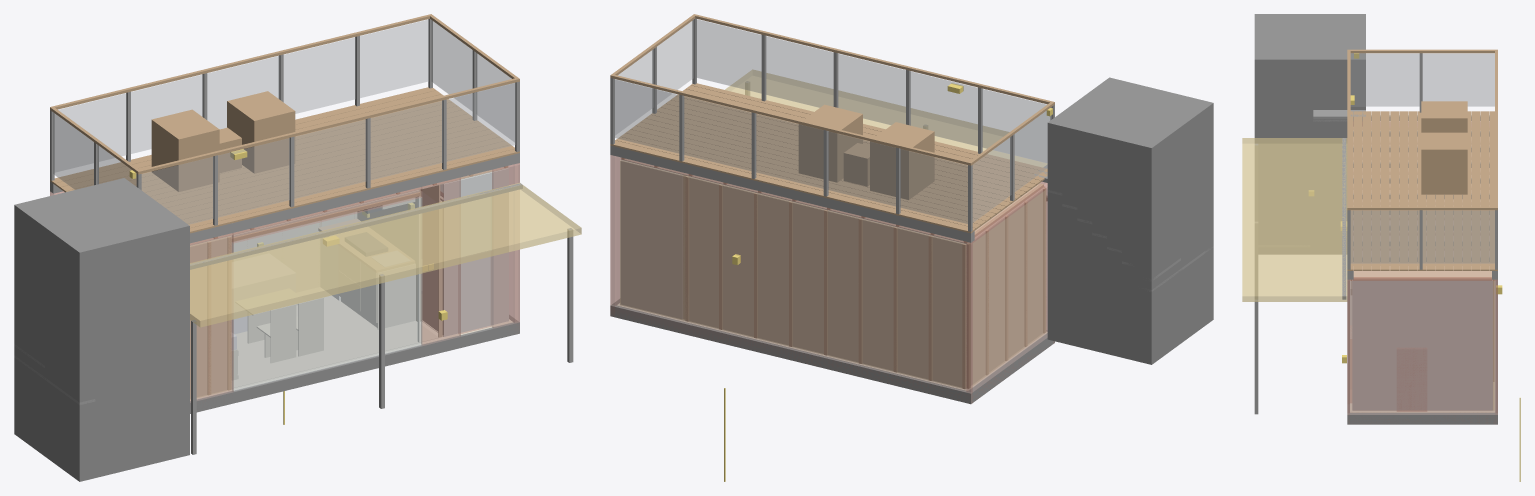
Rendered from studio.glb.
3 renders of one model, left to right at view 1: azimuth 30°, elevation 25°; view 2: azimuth 150°, elevation 25°; view 3: azimuth 270°, elevation 25°, orthographic. The views are drawn at different scales.
Visible parts, largest first — view 1: K11-73, K0-SLIDER, K11-56, K11-45, K11-37, K2-CB-FRONT, K1-SPC, K11-51, K11-74, K1-08, K0-FLOOR, K11-75 (+41 smaller); view 2: K0-BACK, K1-INS-back, K11-73, K11-37, K11-45, K0-ENDA, K1-INS-end-A, K1-02, K1-03, K2-CB-BACK, K1-04, K1-01 (+36 smaller); view 3: K11-73, K0-ENDB, K2-CB-ENDB, K11-56, K11-51, K11-48, K11-75, K0-FLOOR, K11-74, K2-FRAME, K11-14, K11-15 (+28 smaller).
Part boxes in pixels (x1,y1,x2,y2): K11-73: [14, 178, 189, 481]; K0-SLIDER: [232, 196, 422, 390]; K11-56: [190, 182, 581, 327]; K11-45: [142, 83, 515, 224]; K11-37: [55, 19, 428, 172]; K2-CB-FRONT: [443, 168, 508, 336]; K1-SPC: [231, 295, 438, 388]; K11-51: [431, 20, 514, 141]; K11-74: [151, 109, 219, 191]; K1-08: [190, 236, 228, 398]; K0-FLOOR: [190, 315, 519, 413]; K11-75: [227, 91, 295, 173]; K0-BACK: [610, 155, 972, 401]; K1-INS-back: [620, 160, 962, 388]; K11-73: [1047, 77, 1213, 364]; K11-37: [614, 79, 967, 223]; K11-45: [696, 19, 1049, 162]; K0-ENDA: [966, 183, 1047, 392]; K1-INS-end-A: [972, 190, 1045, 385]; K1-02: [828, 210, 894, 370]; K1-03: [758, 193, 824, 353]; K2-CB-BACK: [621, 160, 682, 318]; K1-04: [689, 176, 754, 336]; K1-01: [897, 227, 966, 387]; K11-73: [1254, 14, 1365, 254]; K0-ENDB: [1347, 277, 1497, 422]; K2-CB-ENDB: [1353, 281, 1492, 410]; K11-56: [1242, 138, 1347, 301]; K11-51: [1351, 211, 1494, 263]; K11-48: [1351, 54, 1494, 106]; K11-75: [1421, 132, 1467, 194]; K0-FLOOR: [1347, 280, 1497, 424]; K11-74: [1421, 101, 1467, 132]; K2-FRAME: [1397, 348, 1426, 411]; K11-14: [1480, 111, 1488, 270]; K11-15: [1471, 111, 1479, 270].
Bounding box in the file's own units: 7.86 × 5.88 × 4.5.
